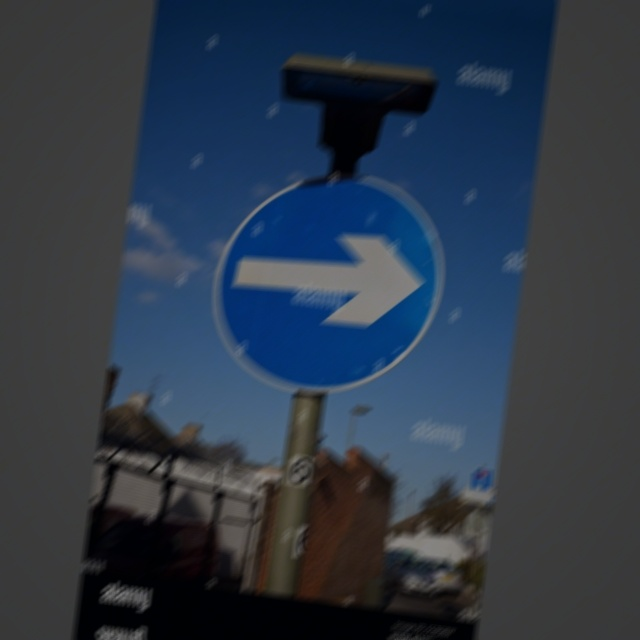Compulsory_Turn_Right: (198, 159, 452, 407)
